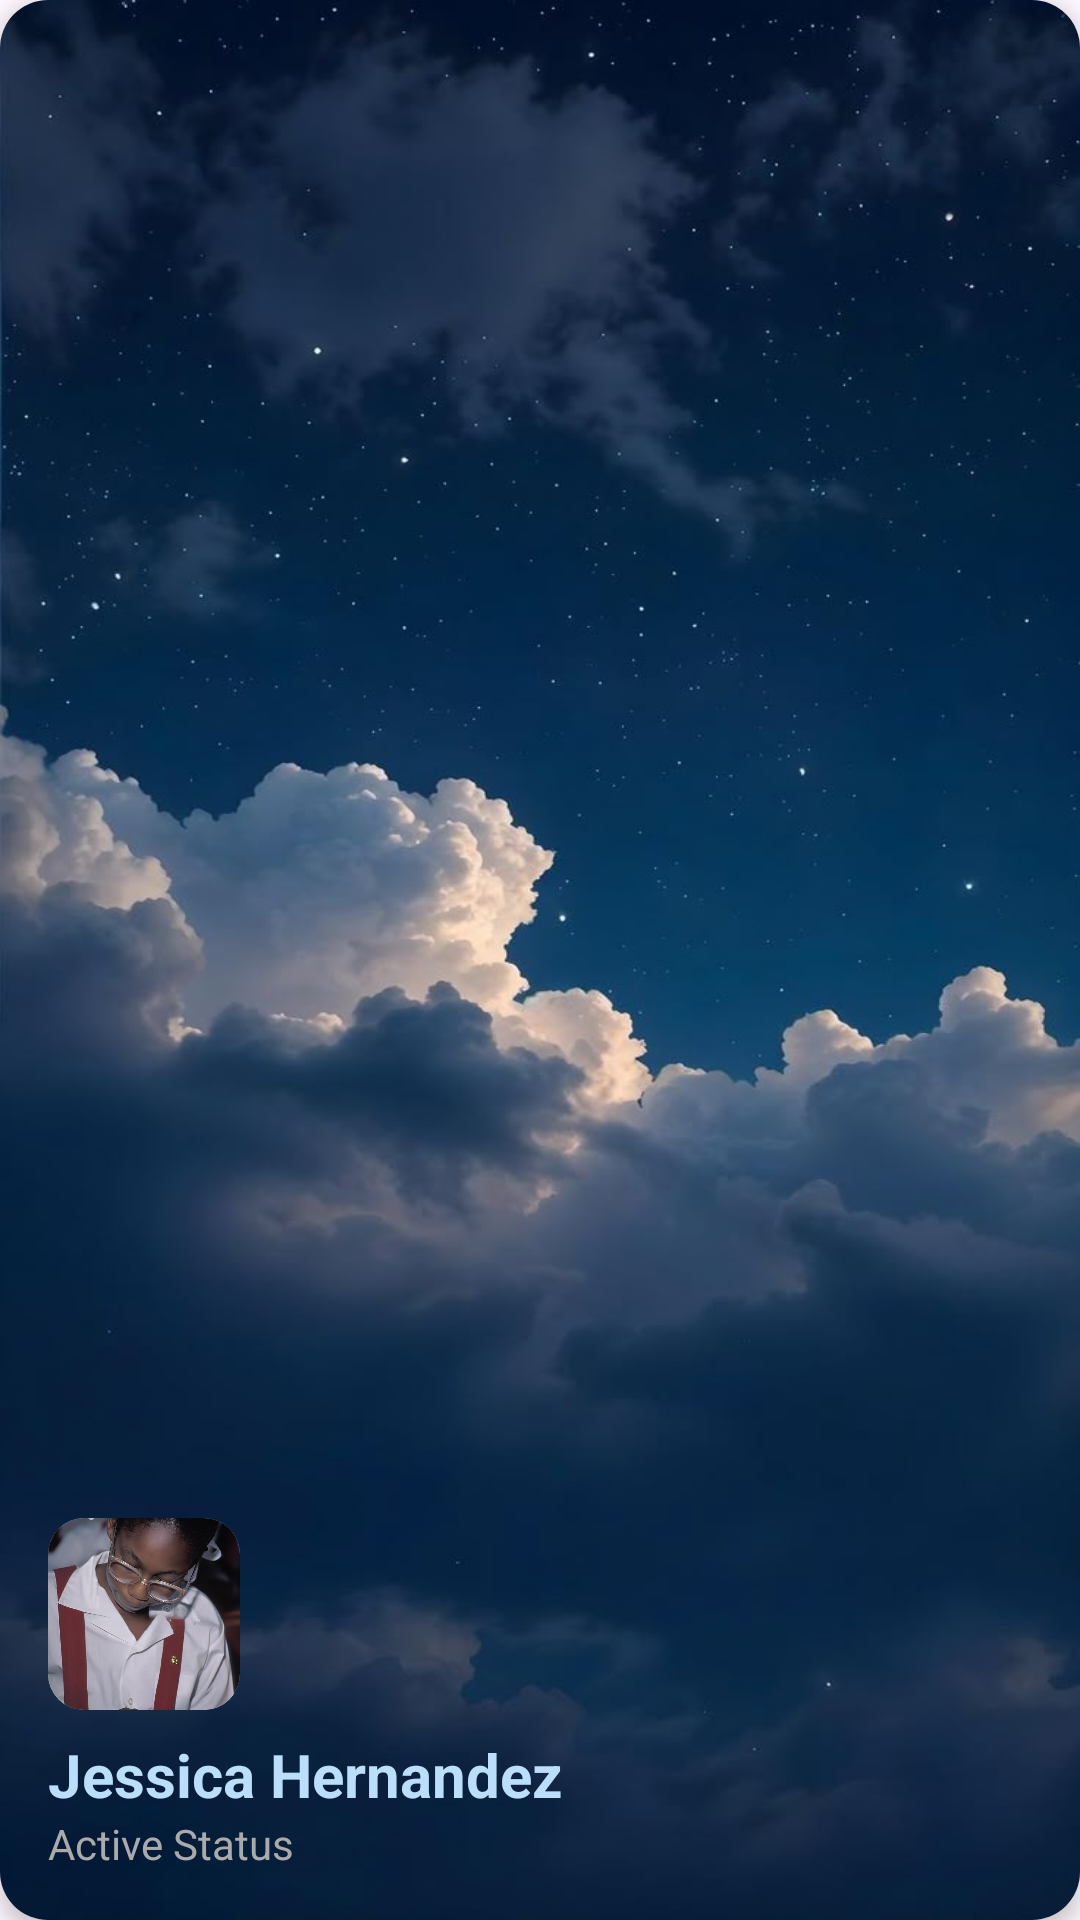

Icons on this 1080×1920 Android screen, each with its box as (x1,y1,x2,y2):
Profile Picture: (48,1518,240,1710)
